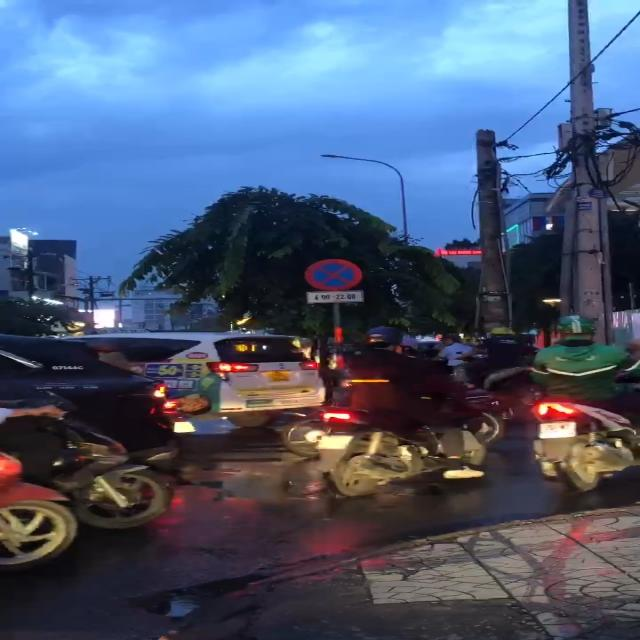Bien bao cam dung xe va do xe: (302, 256, 372, 293)
